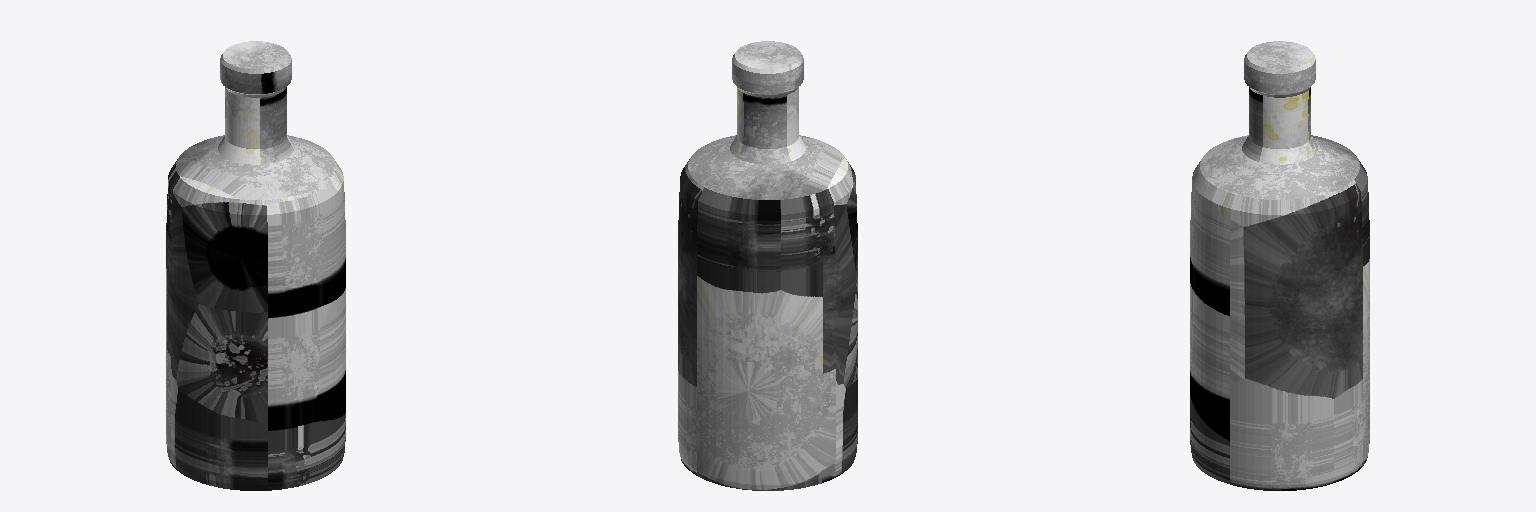
3 views of the same model, side by side, from view 1: azimuth 30°, elevation 25°; view 2: azimuth 150°, elevation 25°; view 3: azimuth 270°, elevation 25° (orthographic).
Parts seen in each view (by area): view 1: Cylinder.029; view 2: Cylinder.029; view 3: Cylinder.029.
Boxes of the visible parts, x1,y1,x2,y2 form: Cylinder.029: [166, 41, 345, 490]; Cylinder.029: [678, 41, 857, 490]; Cylinder.029: [1190, 41, 1369, 490].
Size of the model in its own units: 0.0801 by 0.1974 by 0.0801.
1 materials, 1 textured.